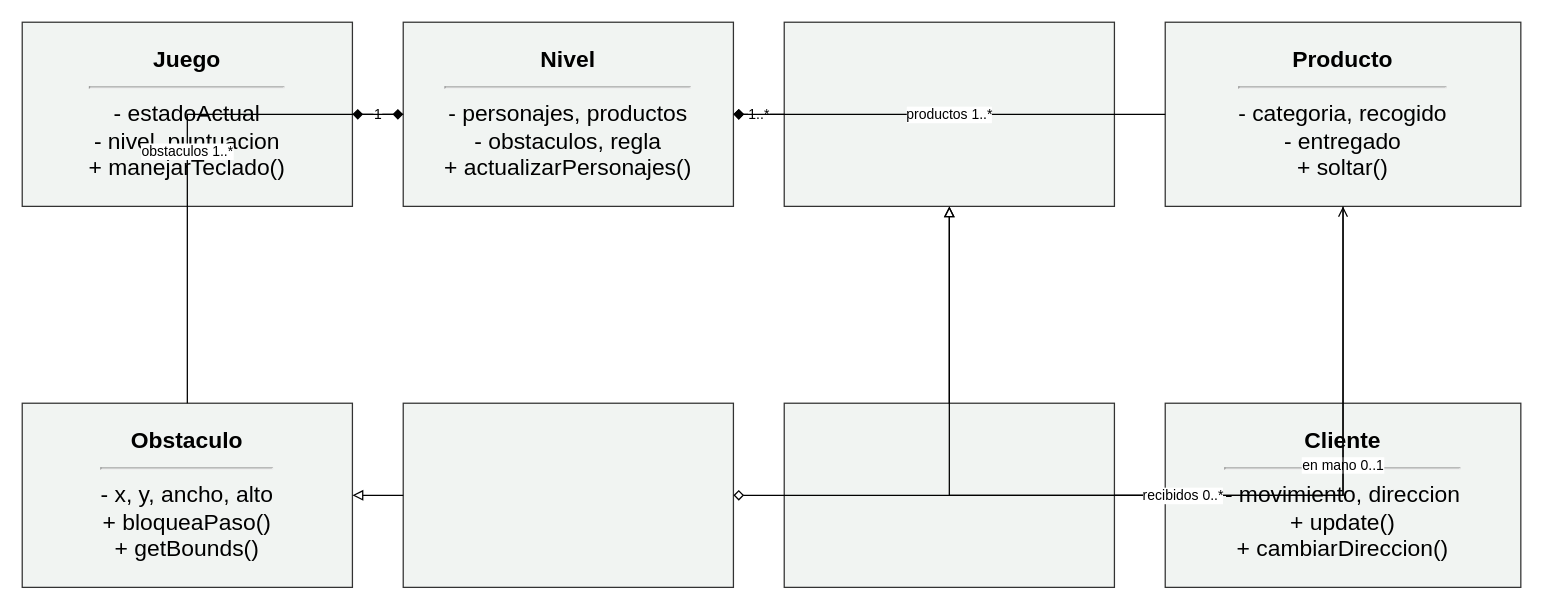
This 1543x610 diagram has some shape labels left out. The shapes that lost their labels are listed below. From the top down, each one's centre as x and y in pixels, then its label:
(948,113): Personaje abstracta - x, y, velocidad + update() abstracto + getBounds()
(567,494): Estante - categoria, recibidos + recibirProducto() + aceptaProducto()
(948,494): Jugador - productoEnMano + update() + entregarProducto()
